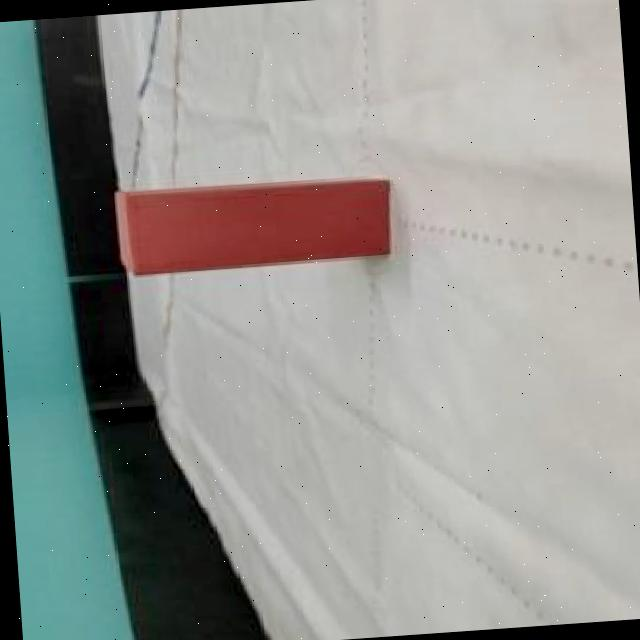redbox: (111, 172, 395, 280)
